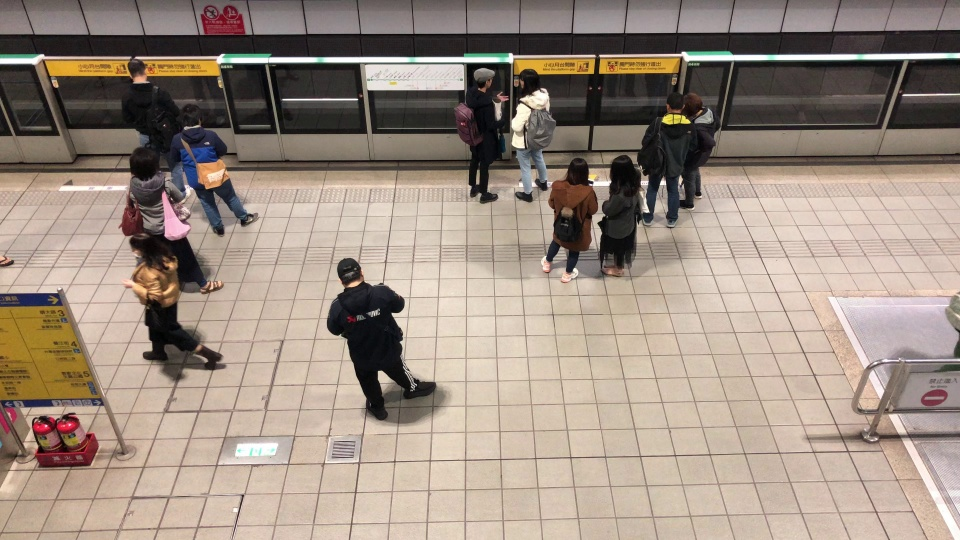person_head: (132, 231, 172, 277), (608, 156, 643, 196), (127, 147, 159, 181), (336, 257, 366, 287), (563, 159, 588, 191), (179, 103, 203, 131), (472, 68, 496, 95), (515, 66, 537, 95), (126, 59, 147, 84), (685, 93, 703, 116), (667, 92, 684, 113)
person_vbox: (326, 258, 437, 421), (125, 148, 225, 294), (121, 229, 222, 368), (170, 104, 259, 239), (121, 59, 191, 203), (540, 155, 597, 283), (641, 92, 691, 226), (468, 70, 512, 206), (677, 93, 722, 223), (510, 65, 549, 204), (601, 155, 643, 277)
